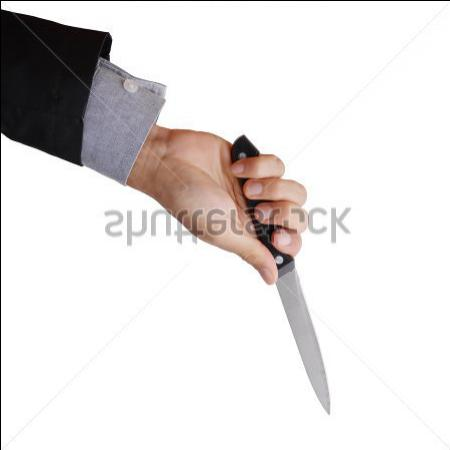long weapon: (242, 177, 334, 423)
